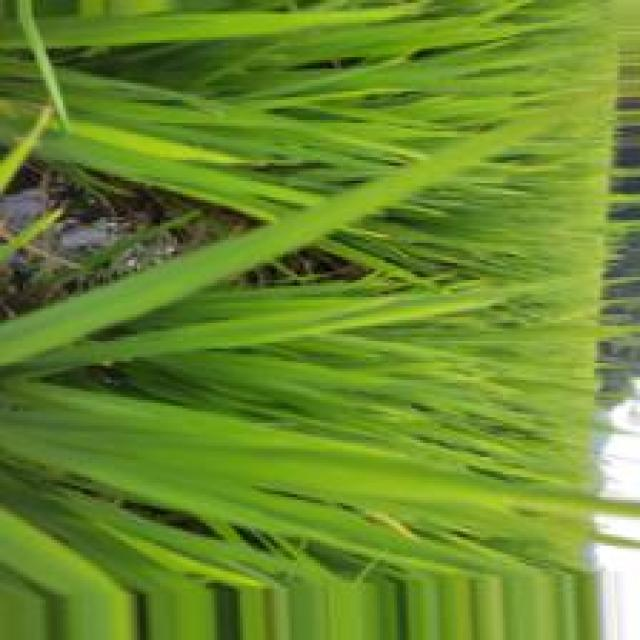HealthyLeaf: (0, 128, 532, 356), (4, 382, 637, 521)
